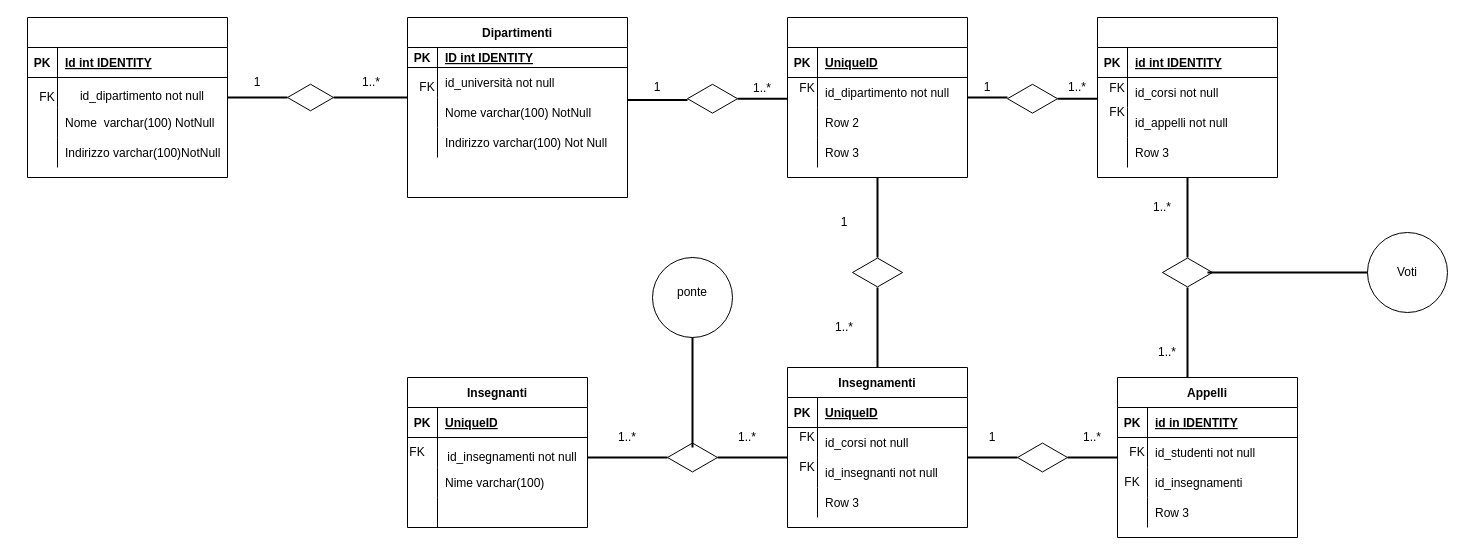
This 1465x555 diagram has some shape labels left out. The shapes that lost their labels are listed below. From the top down, each one's box as (x1, y1, x2, y2) in pixels, then its label:
(26, 16, 228, 178): Università
(786, 16, 968, 178): Corsi
(1096, 16, 1278, 178): Studenti
